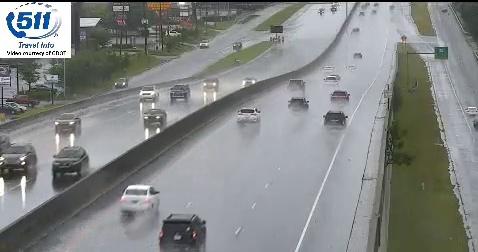car: (159, 213, 207, 250), (121, 184, 158, 211), (236, 108, 260, 124), (324, 110, 346, 126), (289, 97, 308, 113), (330, 91, 350, 103), (287, 79, 305, 92)
